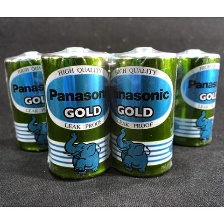battery: (38, 46, 111, 184), (110, 45, 175, 181), (168, 48, 222, 148), (2, 47, 52, 154)
